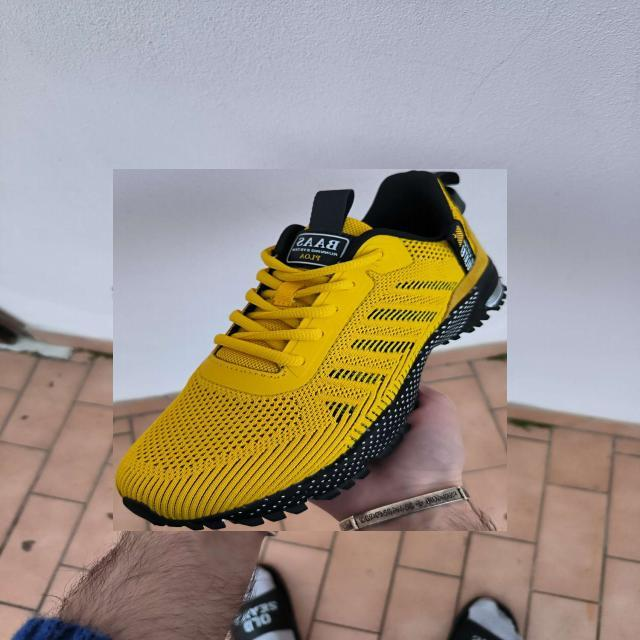shoe: (113, 169, 507, 531)
